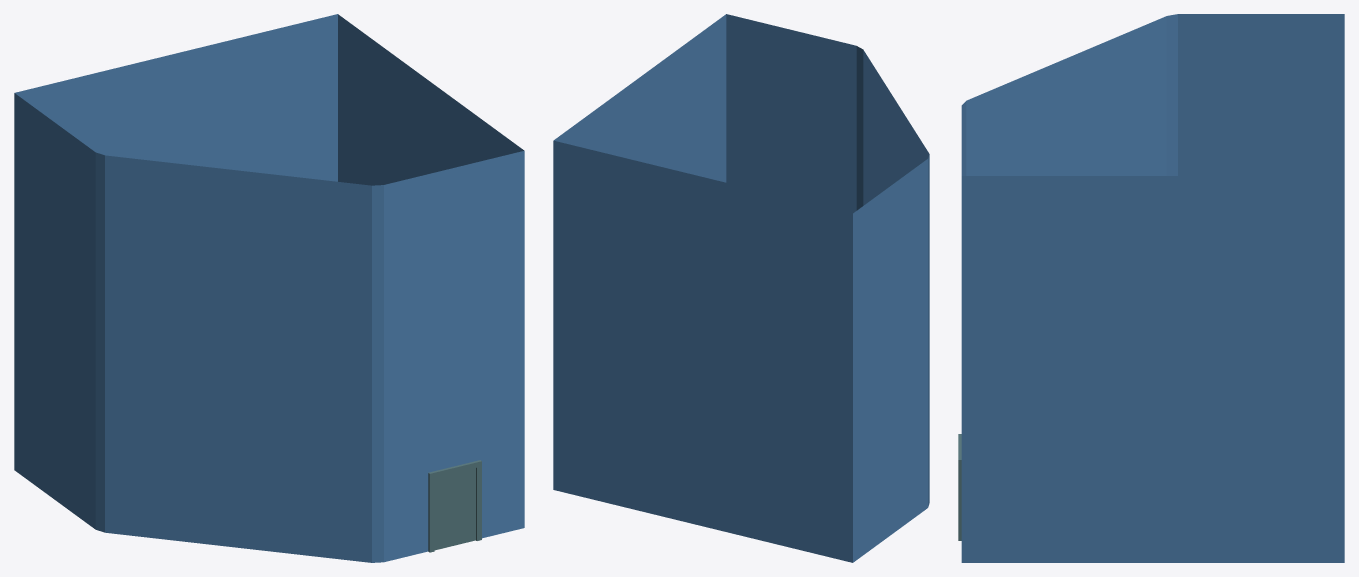
File: Ciudad_Edificio_Esquina_04.FBX
The picture shows the model from 3 angles, left to right: view 1: azimuth 30°, elevation 25°; view 2: azimuth 150°, elevation 25°; view 3: azimuth 270°, elevation 25°; orthographic projection. The views are drawn at different scales.
Parts seen in each view (by area): view 1: Ciudad_Edificio_Esquina_04; view 2: Ciudad_Edificio_Esquina_04; view 3: Ciudad_Edificio_Esquina_04.
Part boxes in pixels (x1,y1,x2,y2): Ciudad_Edificio_Esquina_04: (14, 14, 524, 562); Ciudad_Edificio_Esquina_04: (553, 14, 929, 562); Ciudad_Edificio_Esquina_04: (958, 14, 1344, 562).
Bounding box in the file's own units: 1150 × 1160 × 1282.
